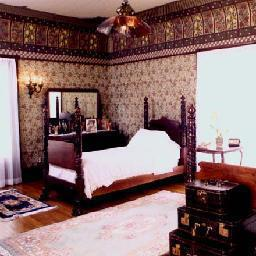Cama: (44, 130, 176, 203)
Ventana: (199, 52, 253, 140), (4, 58, 19, 160)
